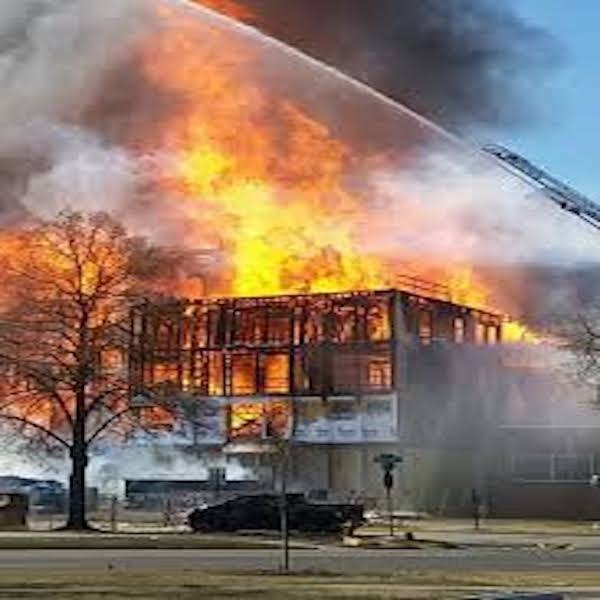fire: (102, 41, 387, 214), (224, 219, 481, 297), (209, 350, 290, 396), (495, 323, 538, 369), (368, 307, 391, 343), (235, 404, 259, 432)
